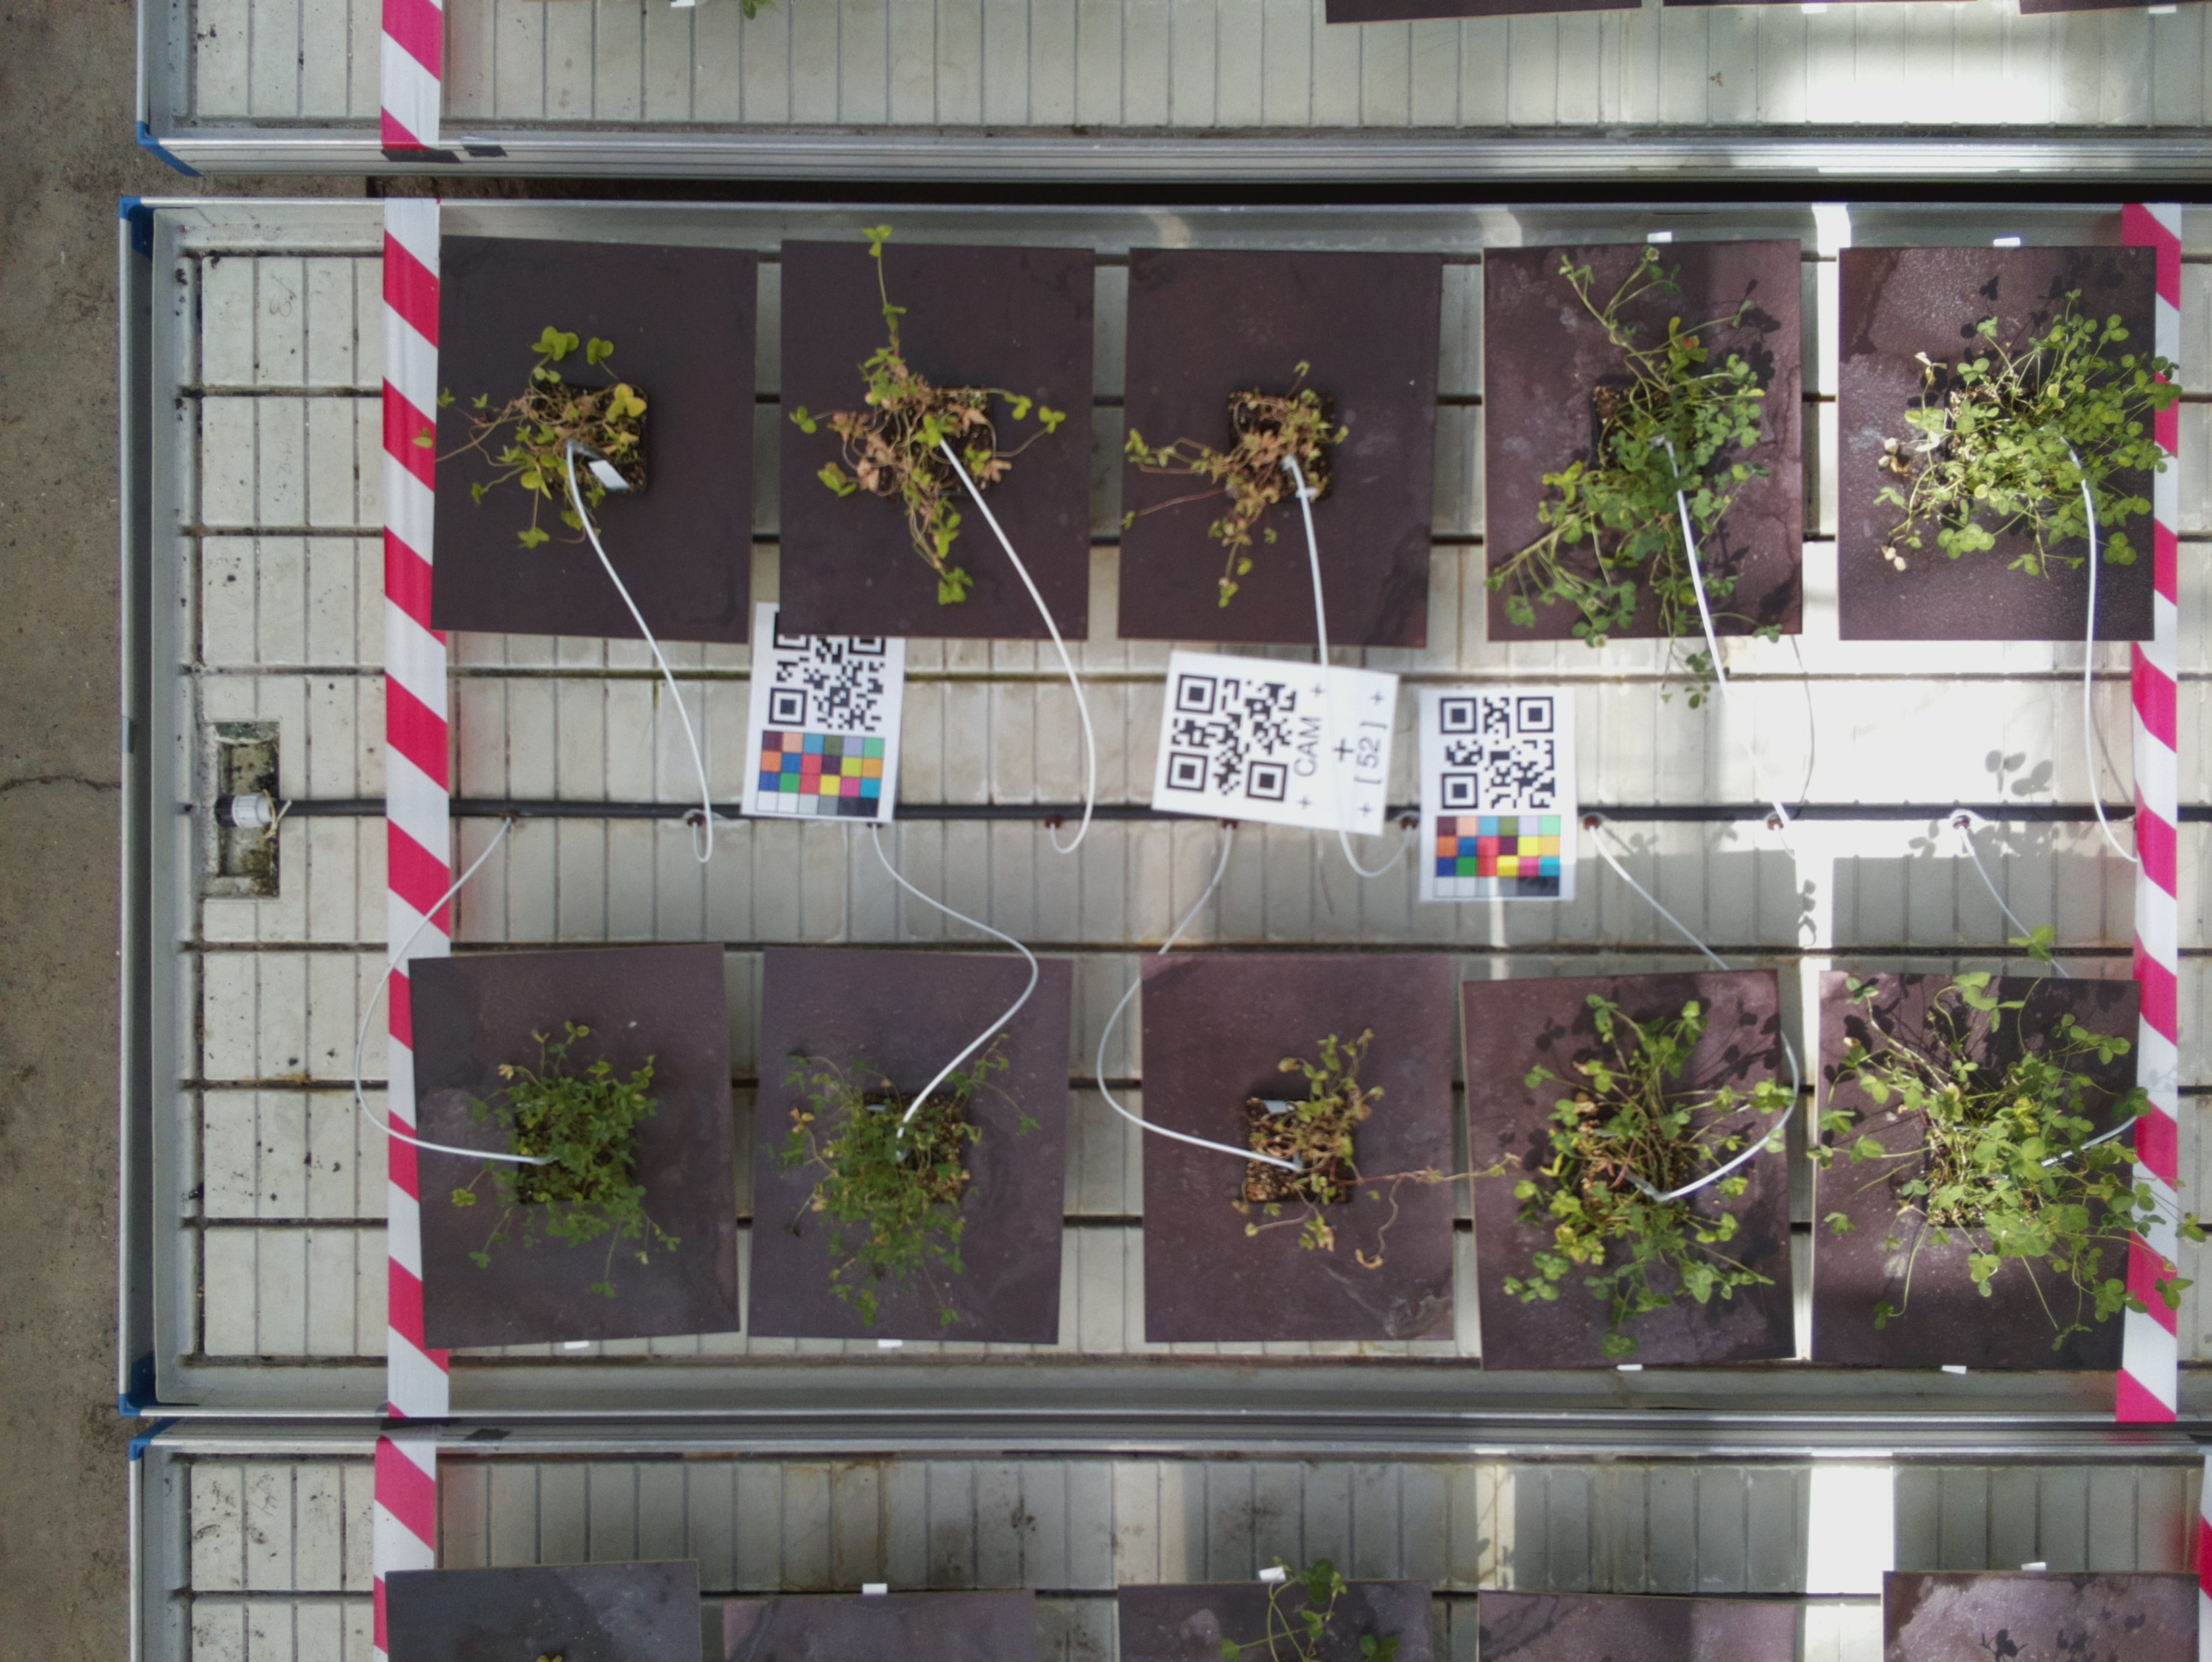POT: (1812, 971, 2142, 1377), (435, 234, 754, 641), (412, 958, 749, 1337), (759, 943, 1070, 1353), (1461, 981, 1798, 1358), (1489, 253, 1812, 644), (1133, 953, 1453, 1344), (784, 243, 1091, 641), (1835, 257, 2153, 641), (1124, 257, 1423, 646)
QRCODE: (1154, 651, 1404, 833)
QRCOLOR: (1421, 693, 1578, 901), (747, 639, 901, 821)
